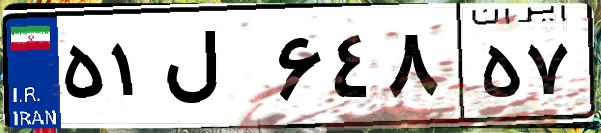1: (110, 28, 158, 98)
4: (330, 28, 385, 110)
5: (57, 26, 110, 100), (475, 38, 525, 113)
6: (270, 28, 330, 110)
7: (525, 38, 570, 115)
8: (385, 28, 445, 110)
ل: (158, 20, 270, 120)
